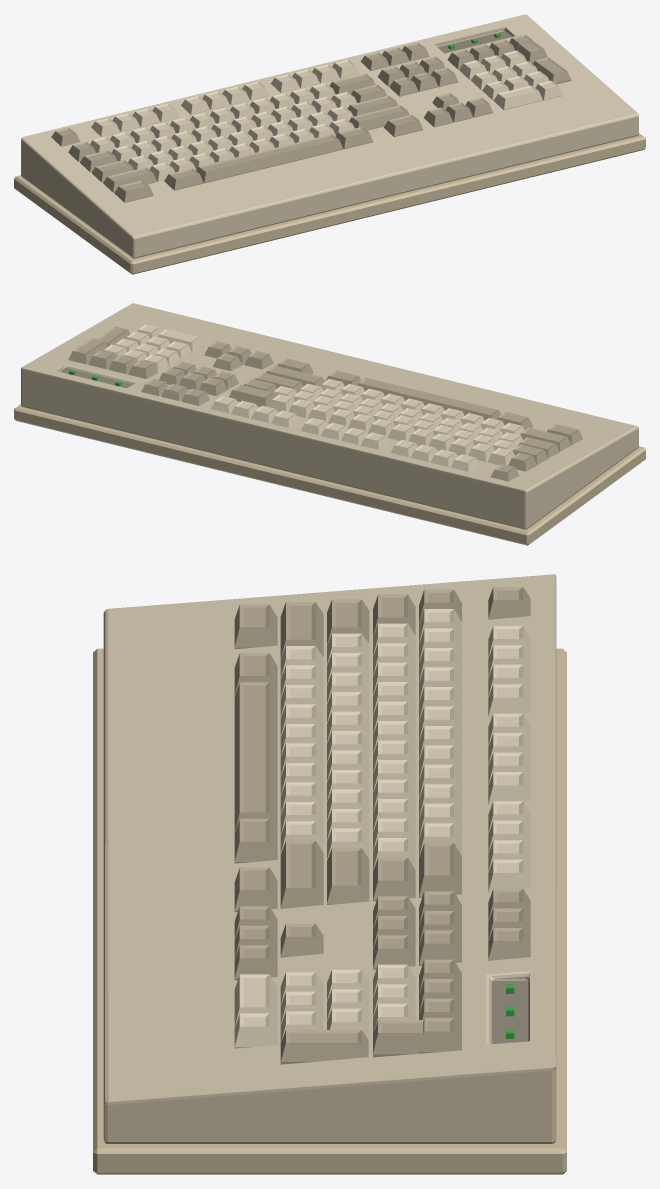
File: keyboard-c.glb
The picture shows the model from 3 angles, top to bottom: view 1: azimuth 30°, elevation 25°; view 2: azimuth 150°, elevation 25°; view 3: azimuth 270°, elevation 25°; orthographic projection. The views are drawn at different scales.
Visible parts, largest first — view 1: case-upper, keys-white, keys-grey, case-lower, led-floor; view 2: case-upper, keys-white, keys-grey, case-lower; view 3: case-upper, keys-white, keys-grey, case-lower, led-floor.
Part boxes in pixels (bbox=[...]): case-upper: bbox=[21, 14, 638, 258]; keys-white: bbox=[90, 50, 562, 181]; keys-grey: bbox=[51, 34, 571, 202]; case-lower: bbox=[14, 133, 645, 274]; led-floor: bbox=[438, 31, 511, 53]; case-upper: bbox=[21, 303, 638, 529]; keys-white: bbox=[103, 324, 524, 471]; keys-grey: bbox=[68, 326, 582, 481]; case-lower: bbox=[14, 404, 645, 545]; case-upper: bbox=[103, 574, 556, 1143]; keys-white: bbox=[234, 609, 530, 1048]; keys-grey: bbox=[234, 587, 530, 1064]; case-lower: bbox=[93, 648, 566, 1174]; led-floor: bbox=[492, 980, 528, 1043].
Bounding box in the file's own units: 0.492 × 0.0534 × 0.196.
